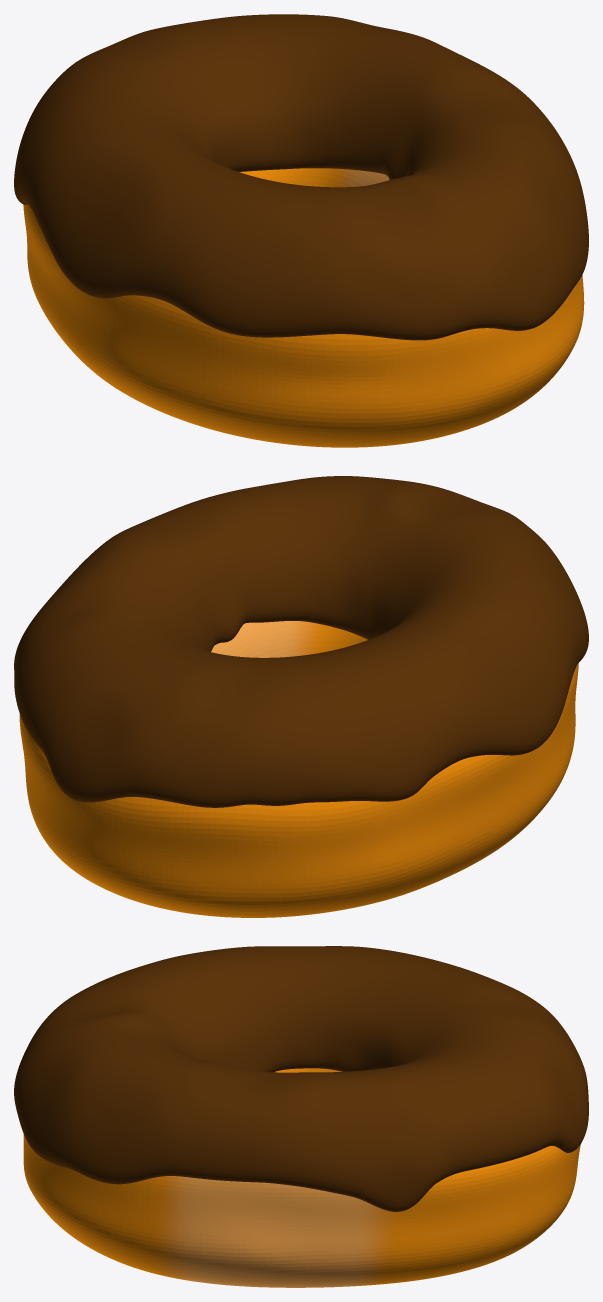
The model's file is donut.glb.
3 renders of one model, top to bottom at view 1: azimuth 30°, elevation 25°; view 2: azimuth 150°, elevation 25°; view 3: azimuth 270°, elevation 25°, orthographic. The views are drawn at different scales.
Parts seen in each view (by area): view 1: donutIcing; view 2: donutIcing; view 3: donutIcing.
Boxes of the visible parts, x1=… form: donutIcing: x1=14, y1=14, x2=588, y2=447; donutIcing: x1=14, y1=476, x2=588, y2=917; donutIcing: x1=14, y1=946, x2=588, y2=1287.
Size of the model in its own units: 1.19 by 0.6039 by 1.48.
2 materials, 1 textured.
